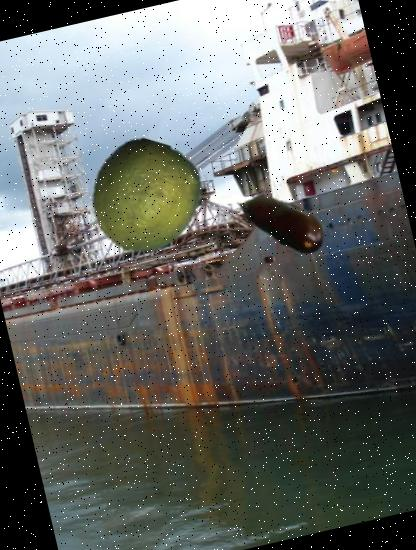Eggplant: (222, 162, 341, 281)
Limes: (76, 128, 214, 266)
